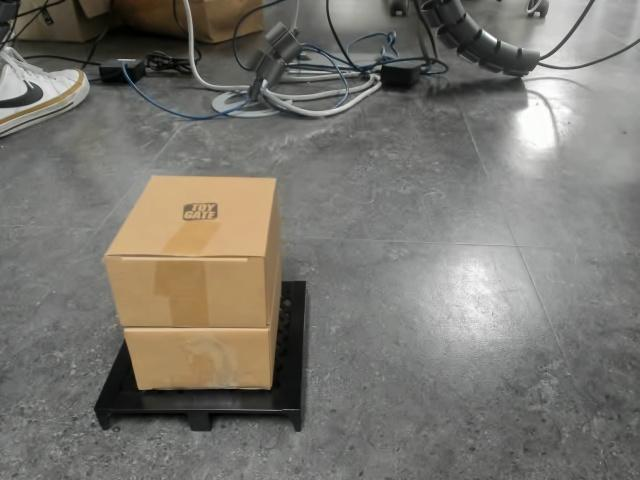box: (93, 173, 311, 434)
